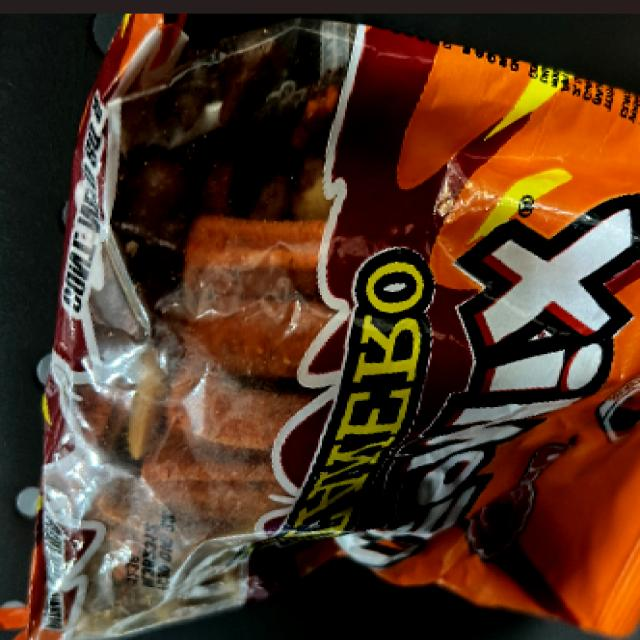leoMix: (50, 36, 638, 620)
